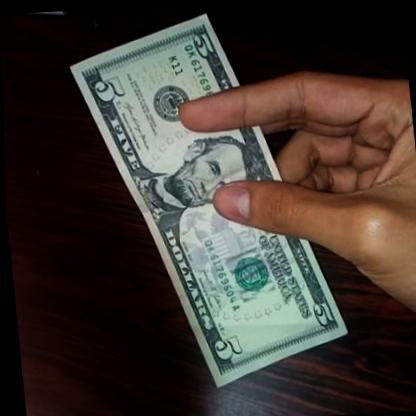five-front: (67, 1, 347, 402)
